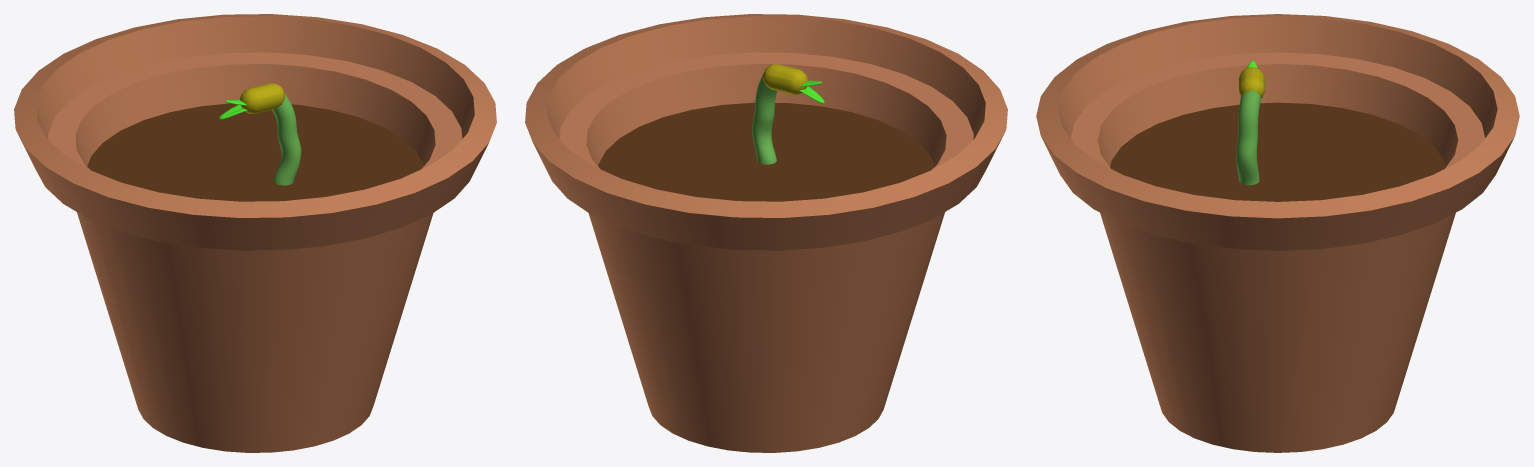
Rendered from sapling.fbx.
The picture shows the model from 3 angles, left to right: view 1: azimuth 30°, elevation 25°; view 2: azimuth 150°, elevation 25°; view 3: azimuth 270°, elevation 25°; orthographic projection.
Visible parts, largest first — view 1: Plant Pot, Cylinder.001, Mball; view 2: Plant Pot, Cylinder.001, Mball; view 3: Plant Pot, Cylinder.001, Mball.
Part boxes in pixels (<box>): Plant Pot: <box>14,14,496,452</box>; Cylinder.001: <box>272,92,301,185</box>; Mball: <box>239,83,285,113</box>; Plant Pot: <box>525,14,1007,452</box>; Cylinder.001: <box>752,75,777,164</box>; Mball: <box>762,64,808,94</box>; Plant Pot: <box>1036,14,1519,452</box>; Cylinder.001: <box>1236,88,1260,185</box>; Mball: <box>1239,67,1264,98</box>.
Bounding box in the file's own units: 535 × 405 × 535.
